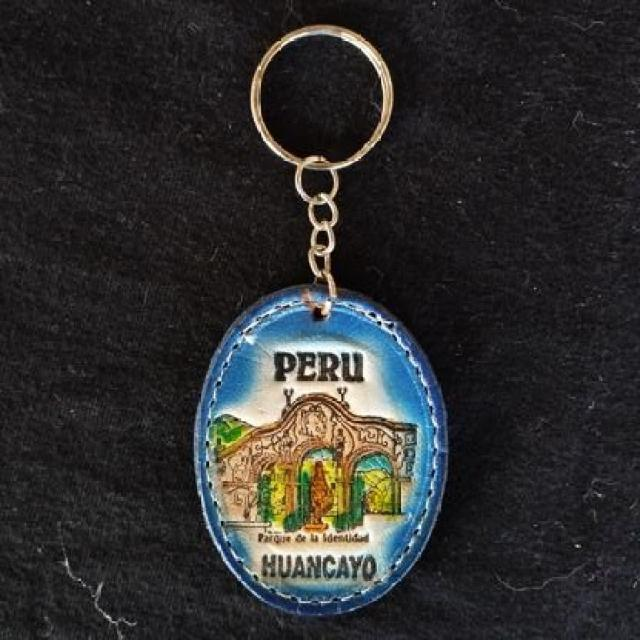Llavero: (192, 283, 450, 617)
